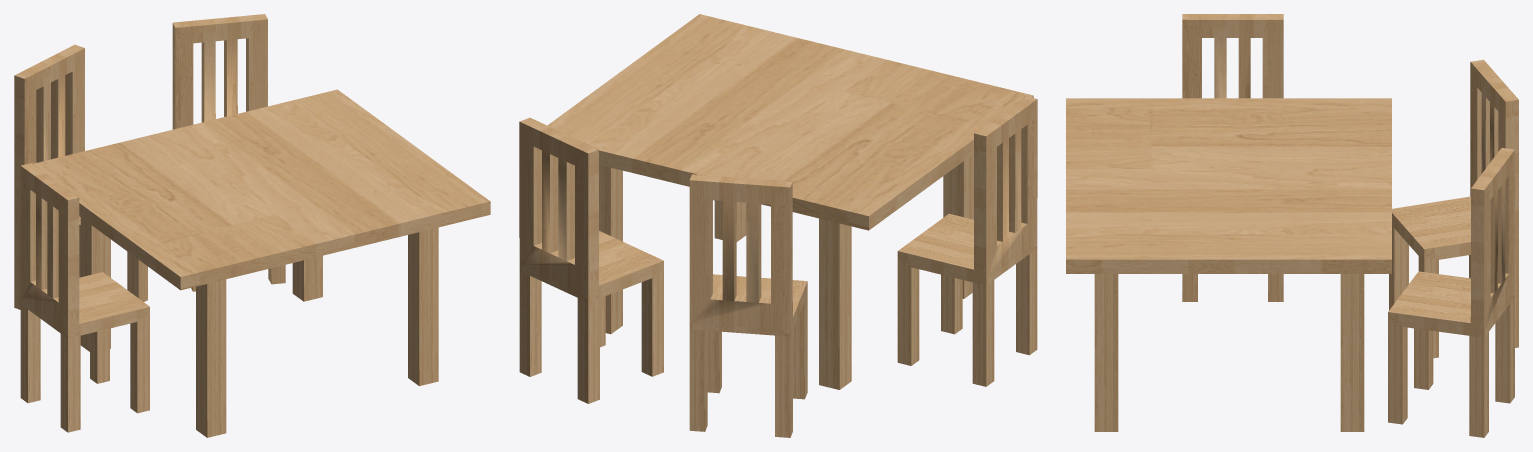
File: table_chairs.obj
The picture shows the model from 3 angles, left to right: view 1: azimuth 30°, elevation 25°; view 2: azimuth 150°, elevation 25°; view 3: azimuth 270°, elevation 25°; orthographic projection. The views are drawn at different scales.
Parts seen in each view (by area): view 1: polySurface7, polySurface6, polySurface5, polySurface4; view 2: polySurface7, polySurface4, polySurface6, polySurface5; view 3: polySurface7, polySurface4, polySurface5, polySurface6.
Part boxes in pixels (<box>): polySurface7: <box>33,89,490,437</box>; polySurface6: <box>20,163,149,432</box>; polySurface5: <box>14,44,147,309</box>; polySurface4: <box>172,14,285,291</box>; polySurface7: <box>547,14,1033,389</box>; polySurface4: <box>519,117,663,403</box>; polySurface6: <box>897,96,1037,386</box>; polySurface5: <box>689,174,807,437</box>; polySurface7: <box>1066,98,1391,431</box>; polySurface4: <box>1388,147,1514,437</box>; polySurface5: <box>1389,59,1518,358</box>; polySurface6: <box>1182,14,1283,301</box>.
Size of what is drawn, in the model's own units: 9.52 by 5.75 by 9.52.
